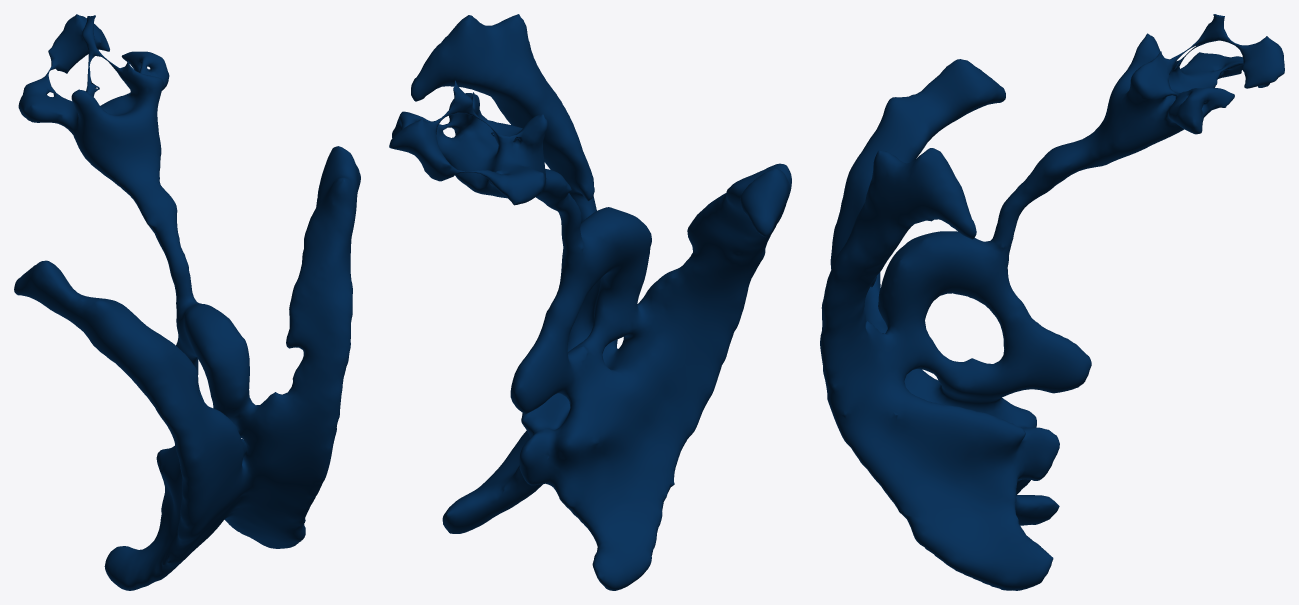
The model's file is Ventricle.obj.
3 renders of one model, left to right at view 1: azimuth 30°, elevation 25°; view 2: azimuth 150°, elevation 25°; view 3: azimuth 270°, elevation 25°, orthographic. The views are drawn at different scales.
Visible parts, largest first — view 1: grp1; view 2: grp1; view 3: grp1.
Part boxes in pixels (left/top/right/bottom): grp1: left=14, top=14, right=360, bottom=590; grp1: left=389, top=14, right=791, bottom=590; grp1: left=820, top=14, right=1284, bottom=590.
Bounding box in the file's own units: 59.58 × 85.42 × 66.27.
